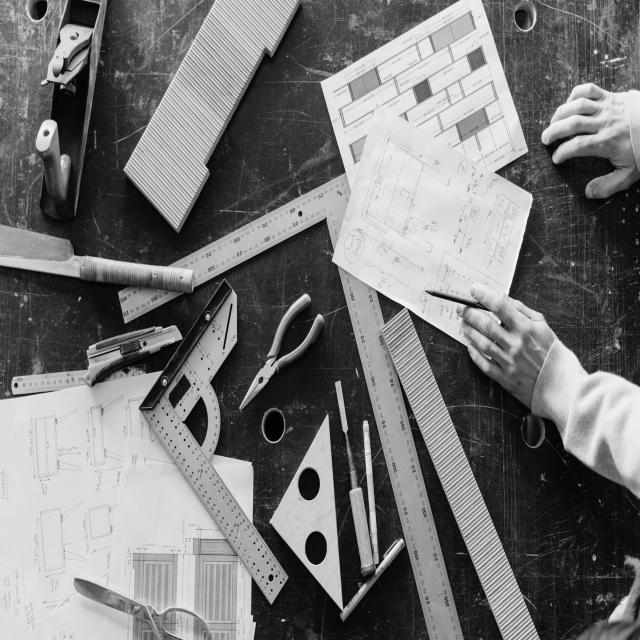angle_iron: (112, 163, 469, 640), (136, 274, 292, 610)
chisel: (331, 376, 376, 578)
pencil: (421, 282, 488, 316)
pens: (336, 527, 405, 627), (363, 415, 377, 561)
pliers: (236, 279, 332, 418)
ruler: (5, 367, 106, 393)
scissors: (68, 571, 212, 639)
utility_knife: (81, 318, 182, 387)
